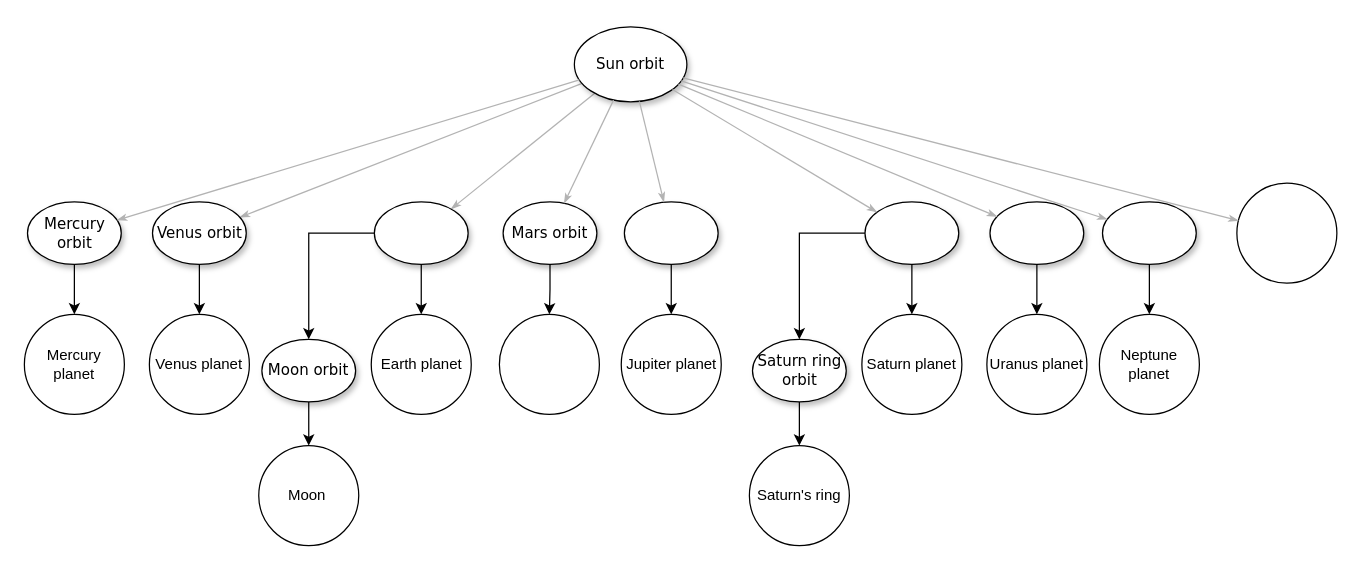
The diagram is 1359 pixels wide and 568 high, and some of its shapes have lost their labels. Here are the shapes that lost their labels. From the top down, the centre of each, then its label:
At (x=422, y=234): "Earth orbit".
At (x=672, y=234): "Jupiter orbit".
At (x=912, y=234): "Saturn orbit".
At (x=1037, y=234): "Uranus orbit".
At (x=1150, y=234): "Neptune orbit".
At (x=1286, y=232): "Sun".
At (x=548, y=363): "Mars planet".
